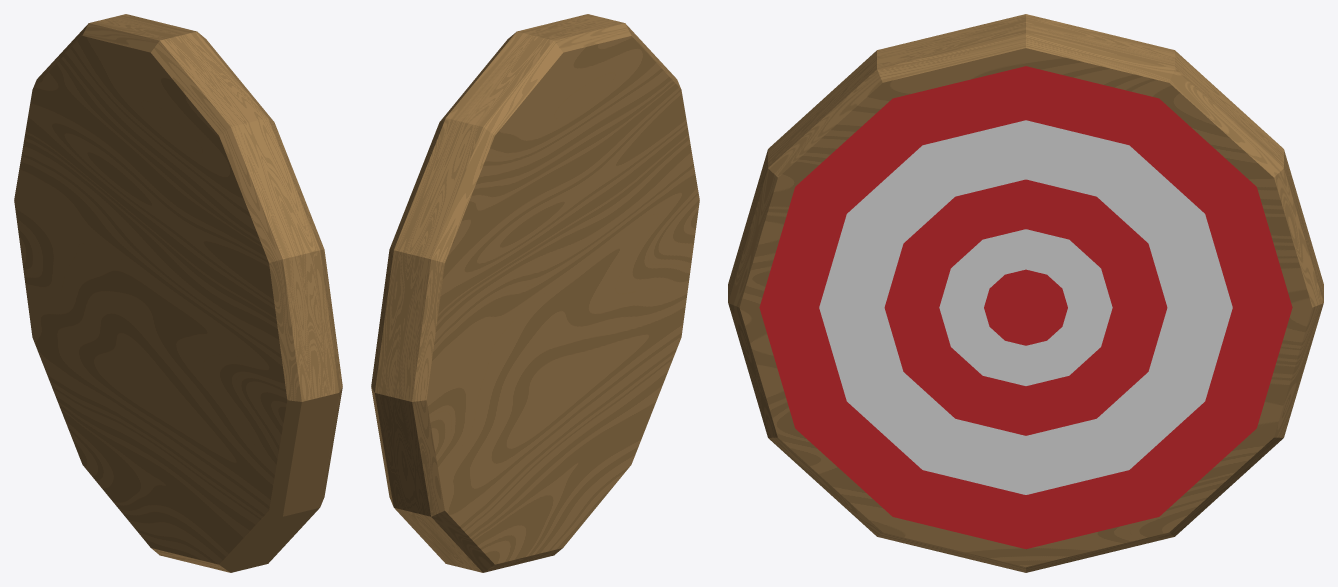
File: Target.fbx
3 views of the same model, side by side, from view 1: azimuth 30°, elevation 25°; view 2: azimuth 150°, elevation 25°; view 3: azimuth 270°, elevation 25° (orthographic). The views are drawn at different scales.
Parts seen in each view (by area): view 1: Outside; view 2: Outside; view 3: FourthCircle, ThirdCircle, Outside, SecondCricle, FirstCircle, Middle.
Boxes of the visible parts, box(x1,y1,x2,y2) form: Outside: box(14, 14, 342, 572); Outside: box(371, 14, 699, 572); FourthCircle: box(759, 66, 1292, 548); ThirdCircle: box(819, 120, 1232, 494); Outside: box(728, 14, 1323, 572); SecondCricle: box(884, 179, 1167, 435); FirstCircle: box(939, 229, 1112, 385); Middle: box(984, 269, 1067, 345).
Bounding box in the file's own units: 4.51 × 40 × 40.
Materials: 3 (1 with a texture image).
